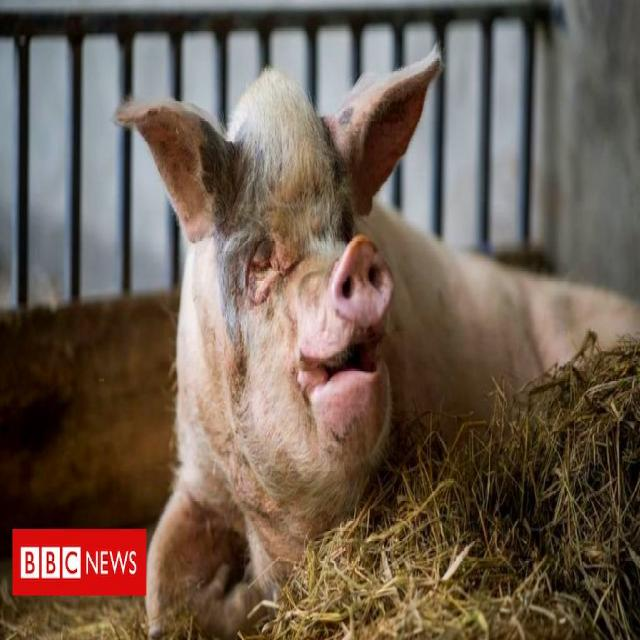pig: (118, 50, 639, 636)
